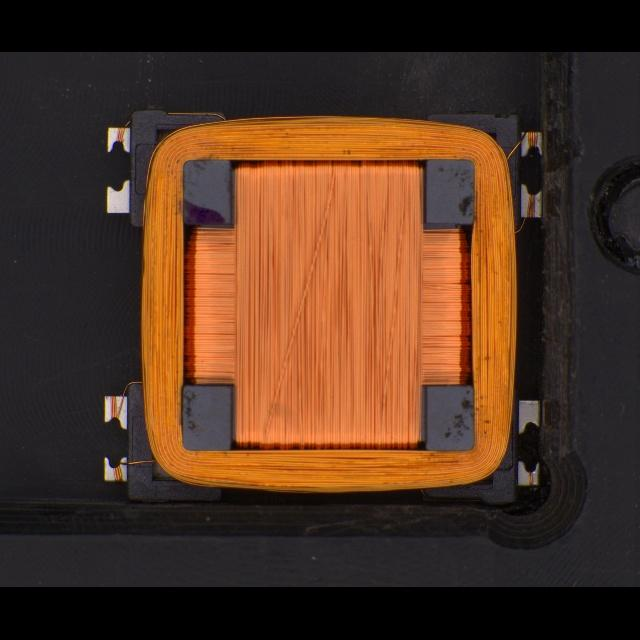Winding_Z: (113, 109, 523, 498)
